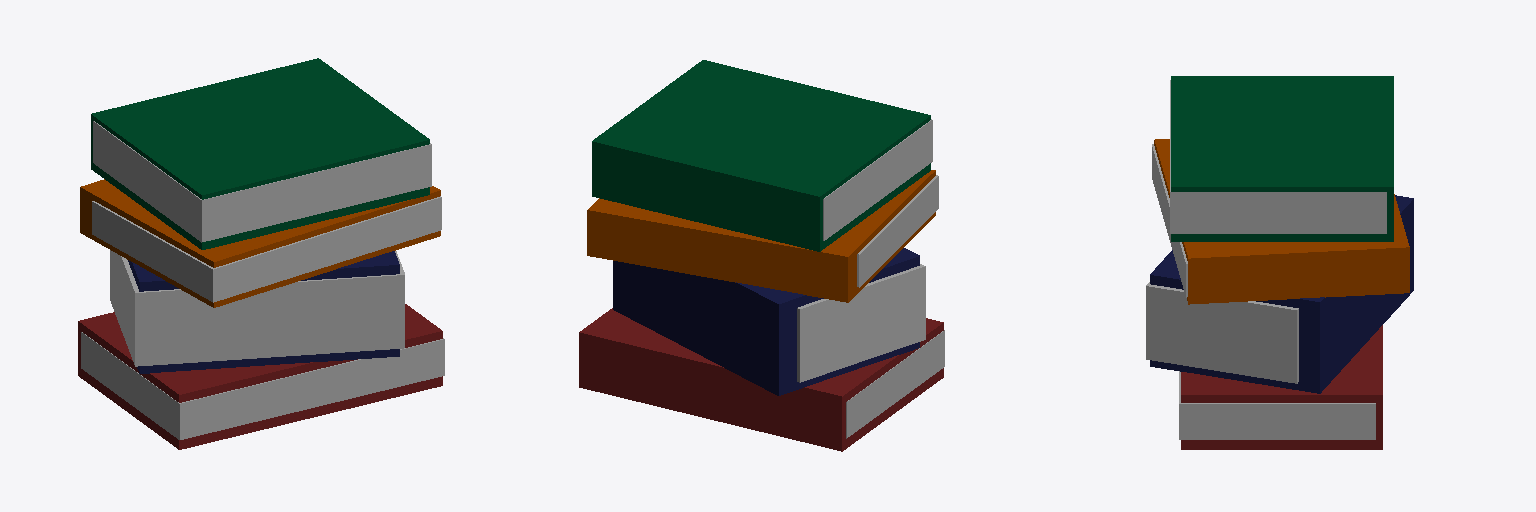
File: falling-books.obj
The picture shows the model from 3 angles: view 1: azimuth 30°, elevation 25°; view 2: azimuth 150°, elevation 25°; view 3: azimuth 270°, elevation 25°; orthographic projection.
Visible parts, largest first — view 1: Box6, Box3, Box7, Box1, Box5, Box, Box4, Box2; view 2: Box6, Box, Box4, Box2, Box3, Box7, Box1, Box5; view 3: Box6, Box4, Box3, Box7, Box2, Box, Box1, Box5.
Part boxes in pixels (x1,y1,x2,y2): Box6: (91,58,429,249); Box3: (110,250,404,366); Box7: (93,121,431,242); Box1: (81,332,444,439); Box5: (92,196,441,302); Box: (78,304,442,449); Box4: (80,179,440,307); Box2: (128,251,399,373); Box6: (592,60,930,251); Box: (579,308,943,451); Box4: (587,170,935,302); Box2: (613,248,919,395); Box3: (797,264,925,382); Box7: (823,119,932,240); Box1: (846,330,944,438); Box5: (857,175,938,287); Box6: (1171,76,1393,241); Box4: (1154,139,1409,304); Box3: (1146,282,1298,383); Box7: (1170,80,1386,233); Box2: (1150,195,1413,393); Box: (1181,325,1382,449); Box1: (1179,371,1375,439); Box5: (1152,144,1187,297).
Size of the model in its own units: 15.85 by 13.83 by 13.26.